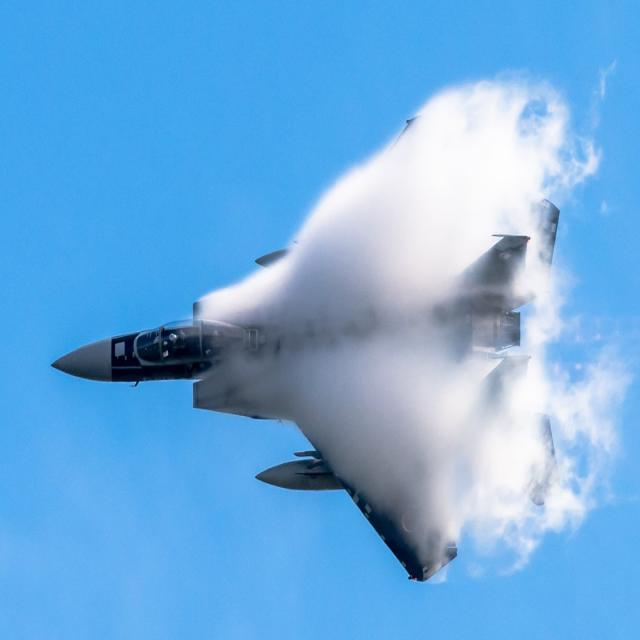MIL_Plane: (49, 110, 562, 584)
